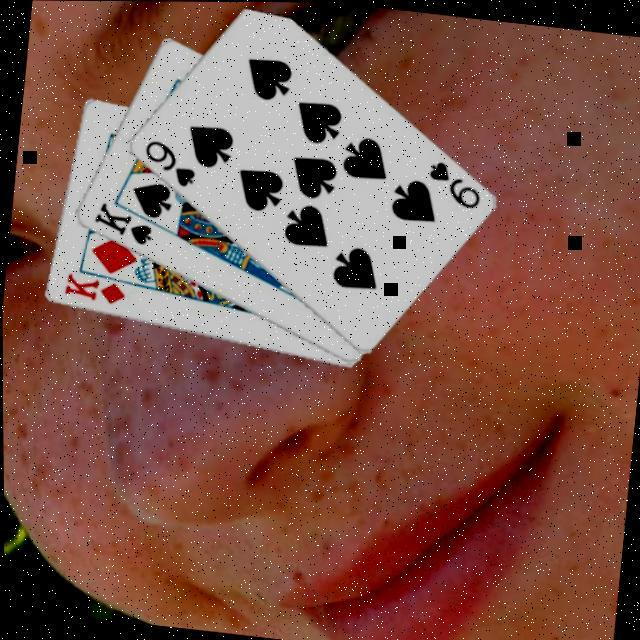9S: (420, 154, 485, 210), (136, 134, 199, 190)
KD: (58, 268, 127, 307)
KS: (86, 196, 155, 247)
